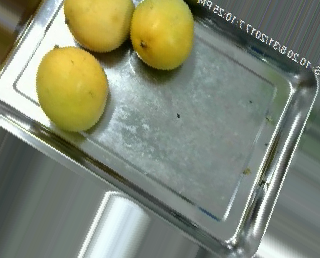Mango: (35, 45, 112, 131), (128, 0, 198, 74), (60, 0, 137, 50)
